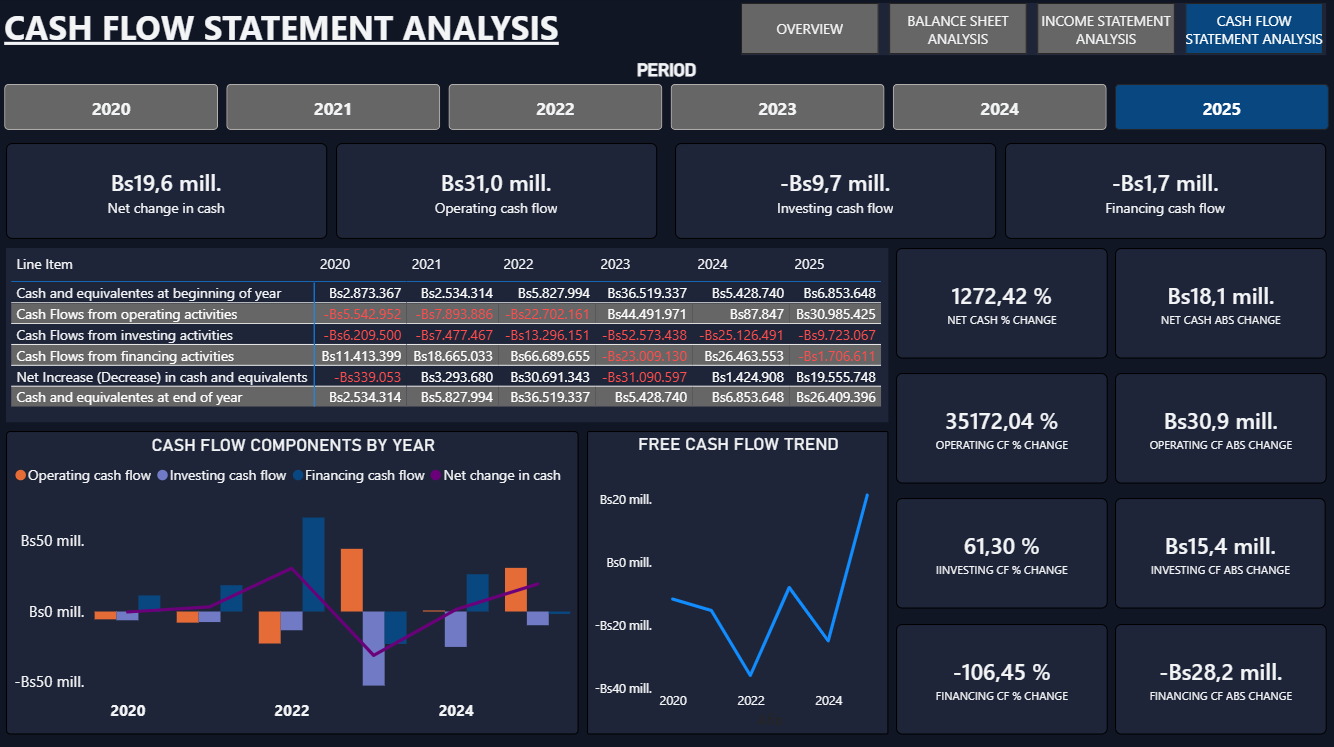

Layout of this report page (visuals, bound fields, positions):
{"tool":"powerbi","page":{"name":"CASH FLOW STATEMENT ANALYSIS","canvas":[1280,720],"ordinal":3},"visuals":[{"type":"textbox","box":[0,0,541.7,58.5],"z":0},{"type":"advancedSlicerVisual","title":"PERIOD","fields":{"Values":["DimFecha.Año"]},"box":[0,58.5,1280,73.5],"z":1000},{"type":"cardVisual","fields":{"Data":["DimCategoria.Operating cash flow"]},"box":[323.1,139,307.8,92],"z":2000},{"type":"cardVisual","fields":{"Data":["DimCategoria.Investing cash flow"]},"box":[648.1,139,307.8,92],"z":3000},{"type":"cardVisual","fields":{"Data":["DimCategoria.Financing cash flow"]},"box":[964.6,139,307.8,92],"z":4000},{"type":"cardVisual","fields":{"Data":["DimCategoria.Cash net change"]},"box":[6.7,139,307.8,92],"z":5000},{"type":"lineClusteredColumnComboChart","title":"CASH FLOW COMPONENTS BY YEAR","fields":{"Category":["DimFecha.Año"],"Y":["DimCategoria.Operating cash flow","DimCategoria.Investing cash flow","DimCategoria.Financing cash flow"],"Y2":["DimCategoria.Cash net change"]},"box":[6.7,415.2,549.4,291.5],"z":6000},{"type":"pivotTable","fields":{"Columns":["DimFecha.Año"],"Rows":["DimCategoria.Cuenta_EN"],"Values":["Sum(FactEEFF.Valor)"]},"box":[6.7,239.7,845.7,166.8],"z":7000},{"type":"cardVisual","fields":{"Data":["MEDIDAS.Financing CF % Var"]},"box":[860,600.2,203.3,106.4],"z":8000},{"type":"cardVisual","fields":{"Data":["MEDIDAS.Net Change CF % Var"]},"box":[860,239.7,203.3,106.4],"z":9000},{"type":"cardVisual","fields":{"Data":["MEDIDAS.Investing CF % Var"]},"box":[860,479.4,203.3,106.4],"z":10000},{"type":"cardVisual","fields":{"Data":["MEDIDAS.Operating CF % Var"]},"box":[860,359.6,203.3,106.4],"z":11000},{"type":"pageNavigator","box":[711.4,4.8,560.9,49.9],"z":12000},{"type":"lineChart","title":"FREE CASH FLOW TREND","fields":{"Category":["DimFecha.Año"],"Y":["DimCategoria.fcf"]},"box":[563.8,415.2,288.6,291.5],"z":13000},{"type":"cardVisual","fields":{"Data":["DimCategoria.Operating CF Var Abs"]},"box":[1070,359.6,203.3,106.4],"z":14000},{"type":"cardVisual","fields":{"Data":["DimCategoria.Investing CF Var Abs"]},"box":[1070,479.4,202.3,106.4],"z":15000},{"type":"cardVisual","fields":{"Data":["DimCategoria.Financing CF Var Abs"]},"box":[1070,600.2,203.3,106.4],"z":16000},{"type":"cardVisual","fields":{"Data":["DimCategoria.Net Change CF Var Abs"]},"box":[1070,239.7,203.3,106.4],"z":17000}]}

Visuals, with their boxes in screenshot pixels (x1, y1, x2, y2), scaled from the page's 1280x720 canvas onto the 1334x747 screenshot:
textbox: Rect(0, 0, 565, 61)
"PERIOD" advancedSlicerVisual: Rect(0, 61, 1333, 137)
cardVisual - DimCategoria.Operating cash flow: Rect(337, 144, 658, 240)
cardVisual - DimCategoria.Investing cash flow: Rect(675, 144, 996, 240)
cardVisual - DimCategoria.Financing cash flow: Rect(1005, 144, 1326, 240)
cardVisual - DimCategoria.Cash net change: Rect(7, 144, 328, 240)
"CASH FLOW COMPONENTS BY YEAR" lineClusteredColumnComboChart: Rect(7, 431, 580, 733)
pivotTable - DimFecha.Año x DimCategoria.Cuenta_EN: Rect(7, 249, 888, 422)
cardVisual - MEDIDAS.Financing CF % Var: Rect(896, 623, 1108, 733)
cardVisual - MEDIDAS.Net Change CF % Var: Rect(896, 249, 1108, 359)
cardVisual - MEDIDAS.Investing CF % Var: Rect(896, 497, 1108, 608)
cardVisual - MEDIDAS.Operating CF % Var: Rect(896, 373, 1108, 483)
pageNavigator: Rect(741, 5, 1326, 57)
"FREE CASH FLOW TREND" lineChart: Rect(588, 431, 888, 733)
cardVisual - DimCategoria.Operating CF Var Abs: Rect(1115, 373, 1327, 483)
cardVisual - DimCategoria.Investing CF Var Abs: Rect(1115, 497, 1326, 608)
cardVisual - DimCategoria.Financing CF Var Abs: Rect(1115, 623, 1327, 733)
cardVisual - DimCategoria.Net Change CF Var Abs: Rect(1115, 249, 1327, 359)
